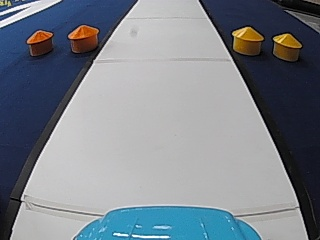granary: (230, 24, 264, 55), (66, 22, 99, 53), (271, 30, 302, 60), (25, 27, 53, 56)
